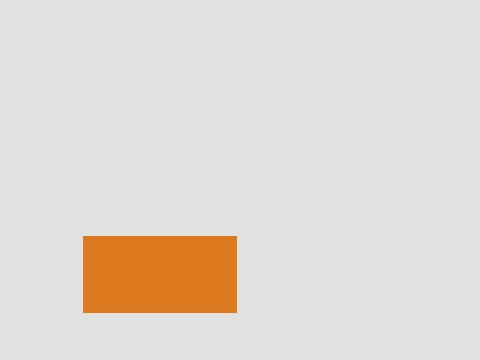square: (83, 236, 236, 312)
